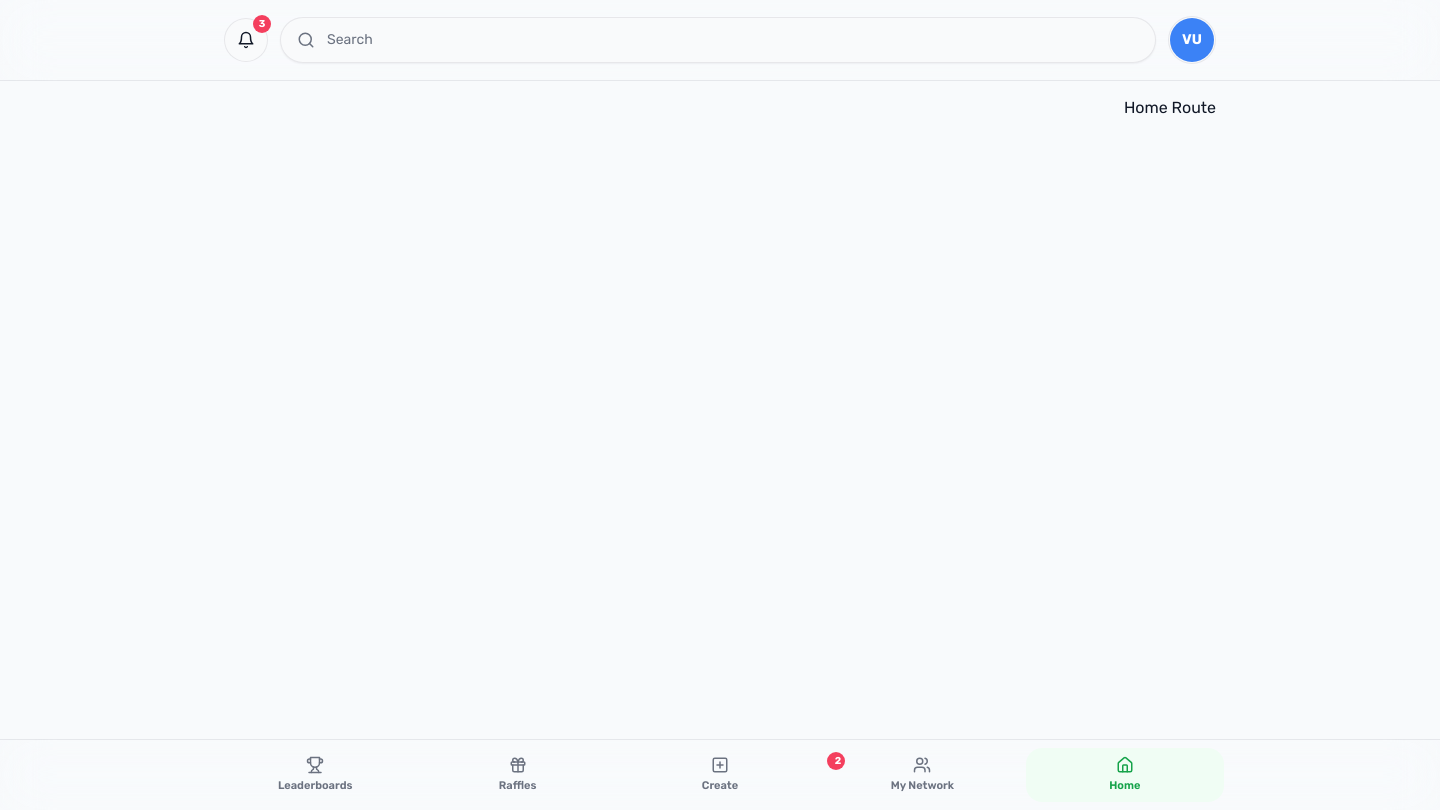
Test: AppShell › navigates to notifications and shows the unread badge
expect the text named "3 unread notifications" is shown: met, box [253,15,271,33]
expect the text named "2 pending friend requests" is shown: met, box [827,752,845,770]
What coordinates should you click on to do the following:
click the button named "Notifications"
I would click on:
 (246, 40)
Its box is [224,18,268,62].
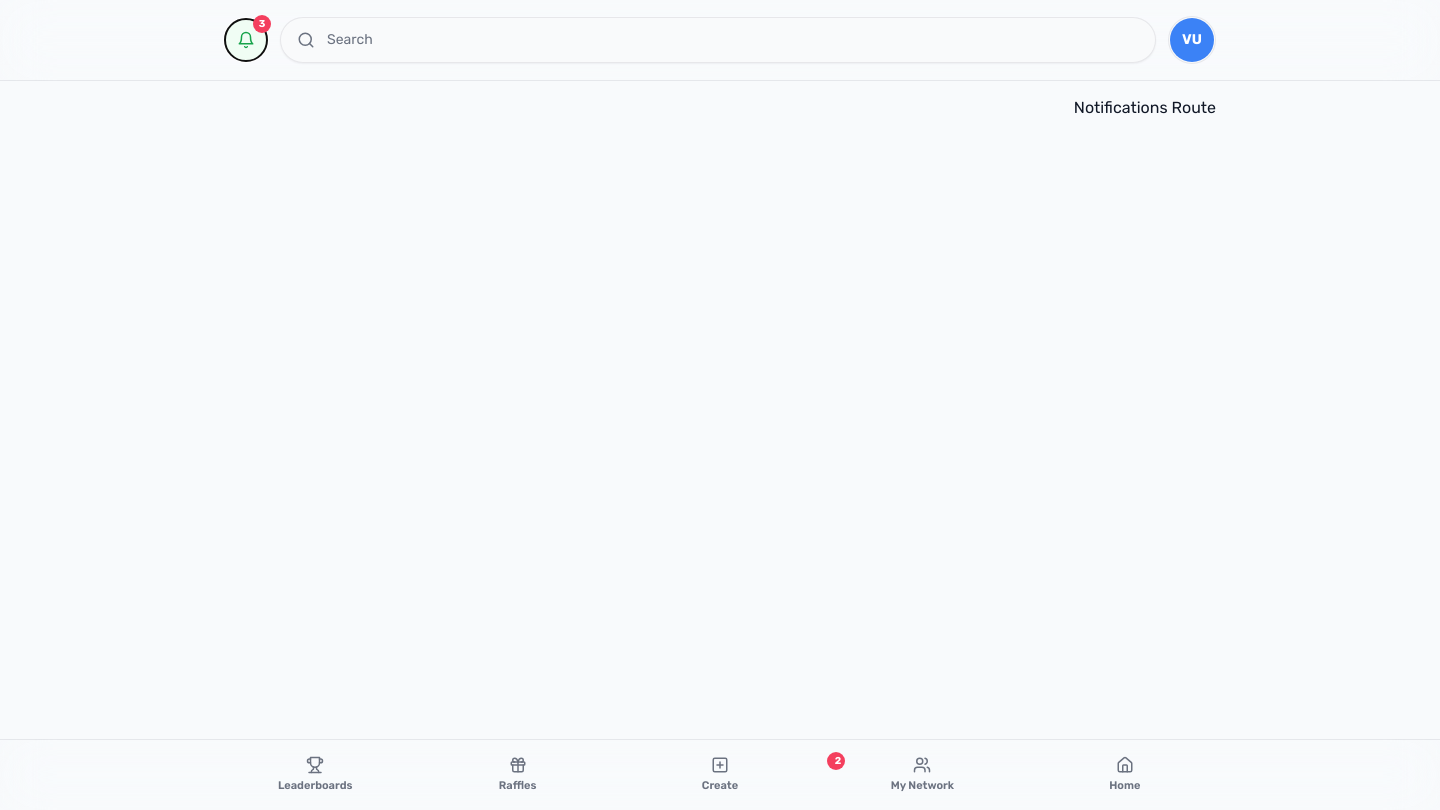
expect the text "Notifications Route" is shown: met, box [1074,98,1216,117]
